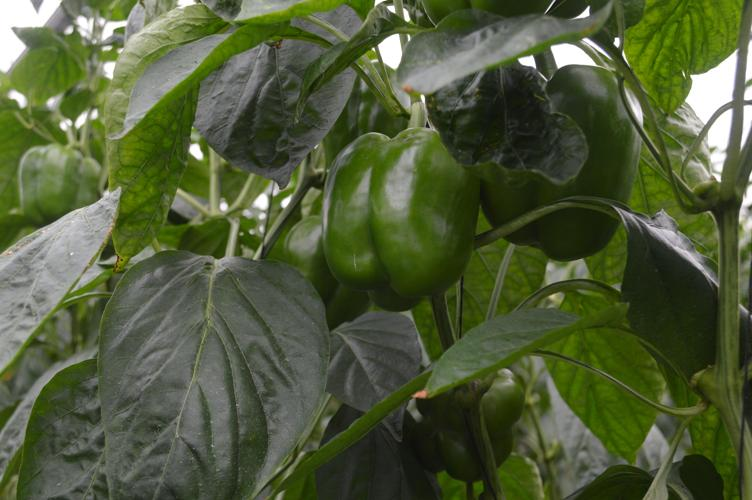BellPepper: (476, 66, 640, 266), (322, 129, 476, 313), (410, 366, 532, 480), (283, 213, 361, 323), (13, 147, 99, 214)
